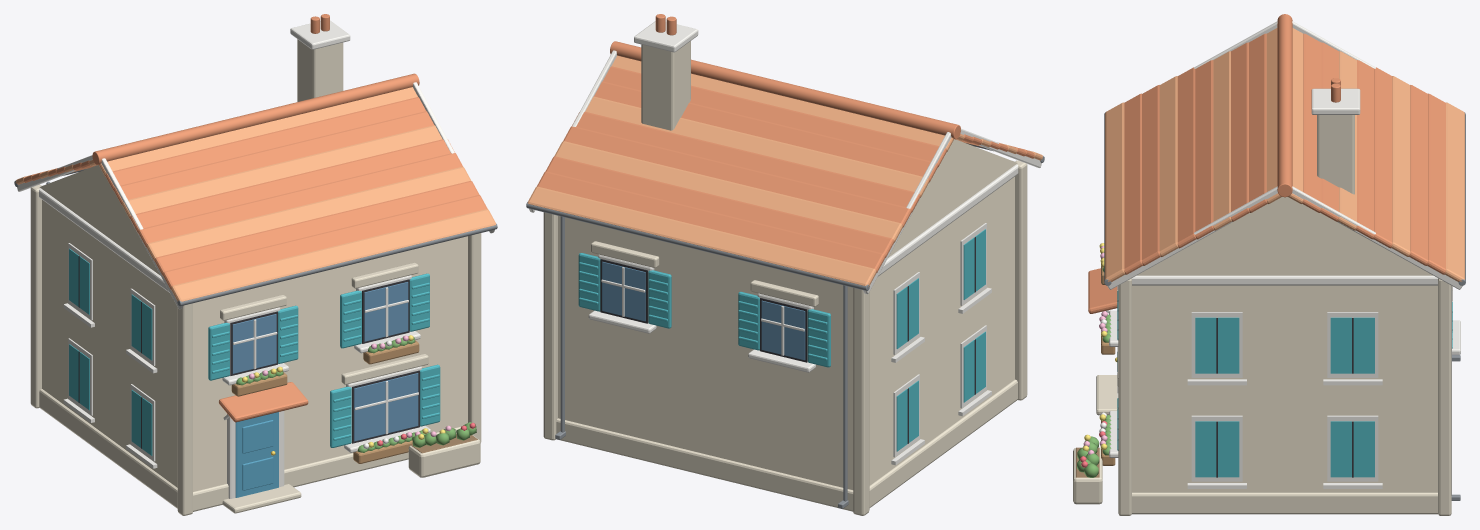
Rendered from house_a.fbx.
3 renders of one model, left to right at view 1: azimuth 30°, elevation 25°; view 2: azimuth 150°, elevation 25°; view 3: azimuth 270°, elevation 25°, orthographic. The views are drawn at different scales.
Parts seen in each view (by area): view 1: Visual; view 2: Visual; view 3: Visual.
Part boxes in pixels (bbox=[...]): Visual: bbox=[14, 14, 497, 515]; Visual: bbox=[526, 14, 1044, 515]; Visual: bbox=[1073, 14, 1465, 515].
Size of what is drawn, in the model's own units: 950 by 1049 by 927.
